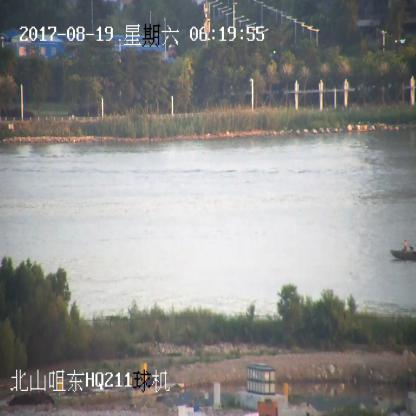Fishing Boat: (391, 239, 415, 262)
